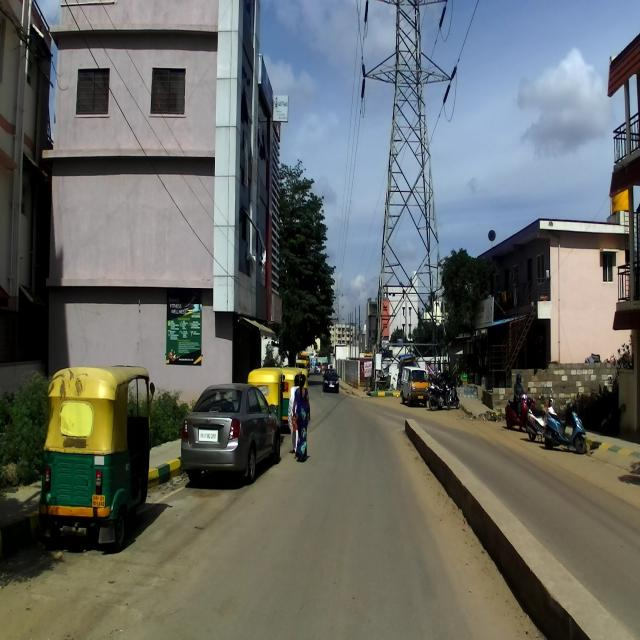Car: (179, 379, 281, 486)
autorickshaw: (41, 362, 156, 555)
motorcycle: (544, 392, 586, 454)
